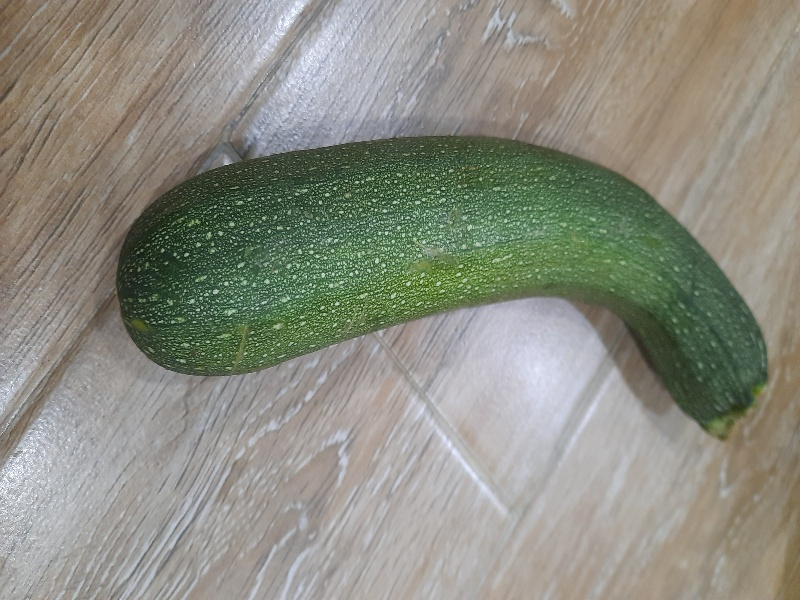vege: (104, 123, 775, 456)
